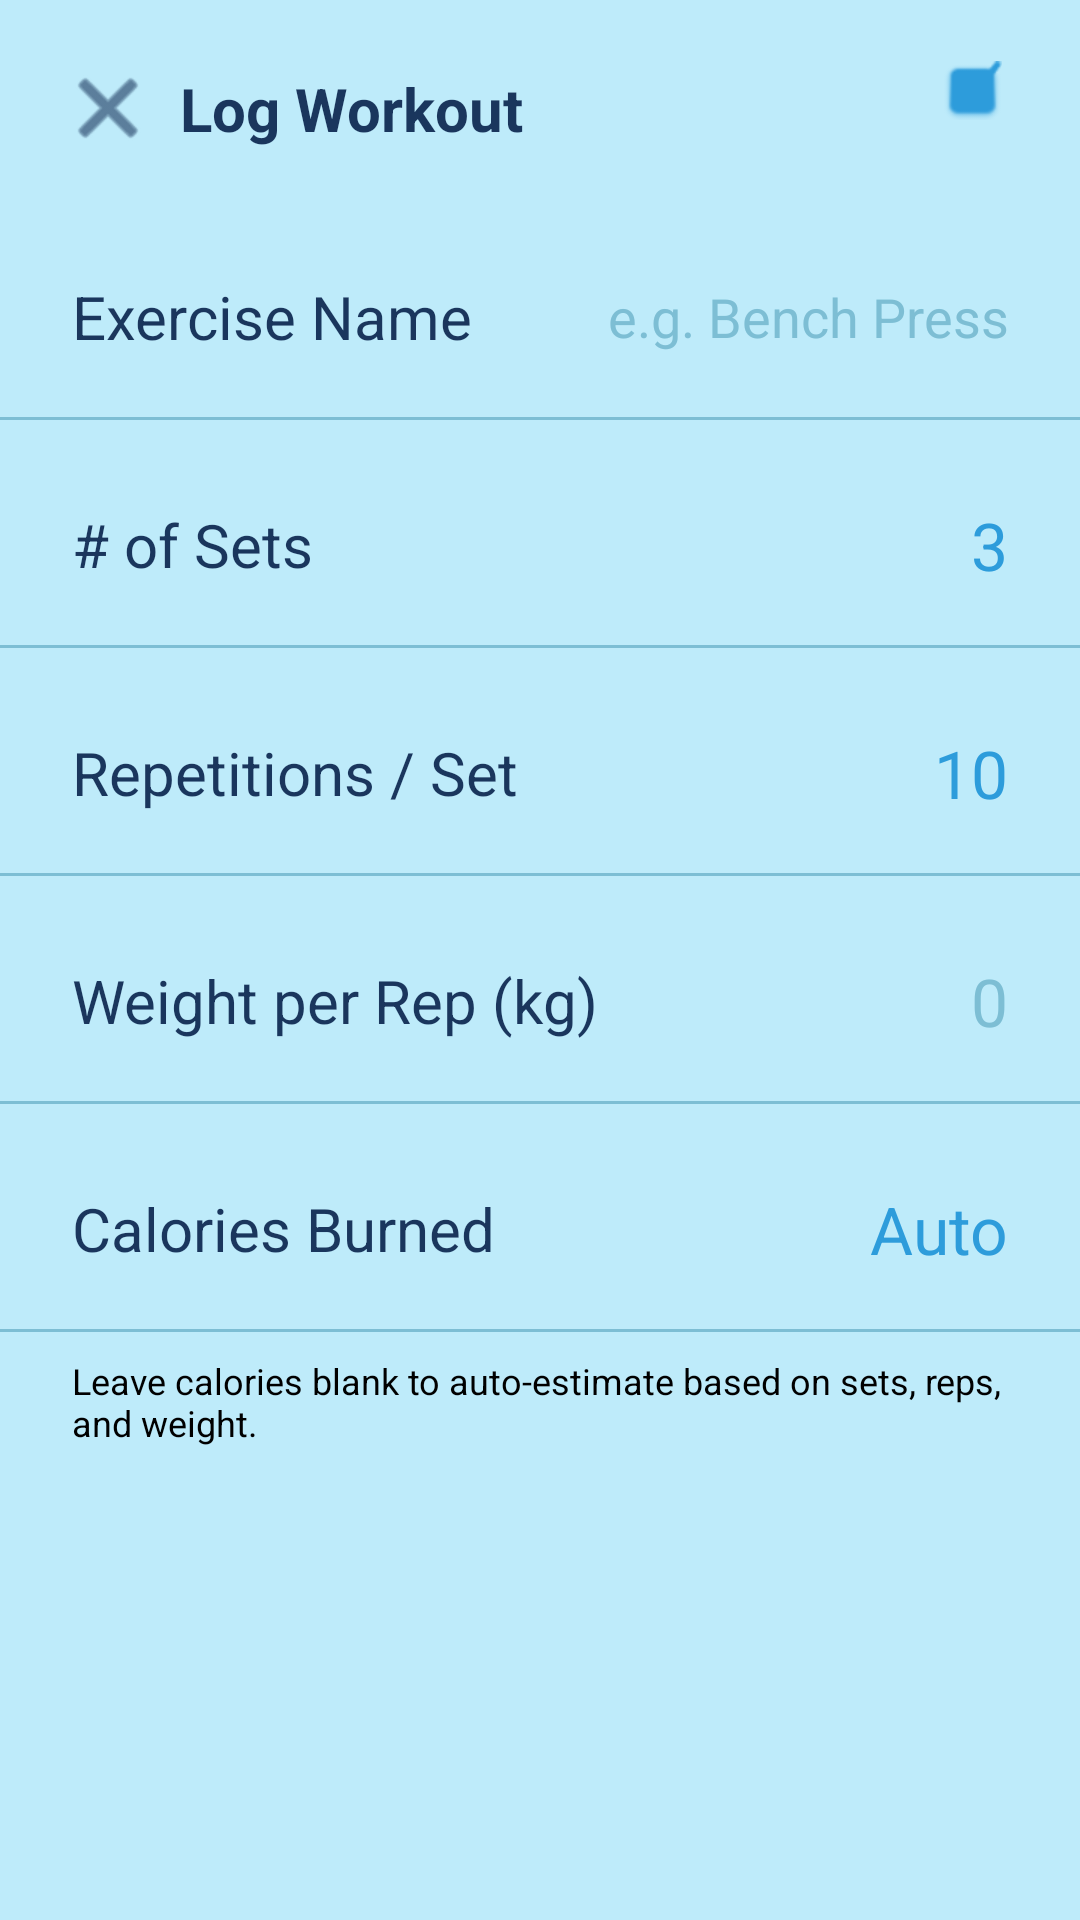

Icon click points for this 1080*1920 phone screenshot, format point (x, y):
close clear cancel: point (108, 108)
